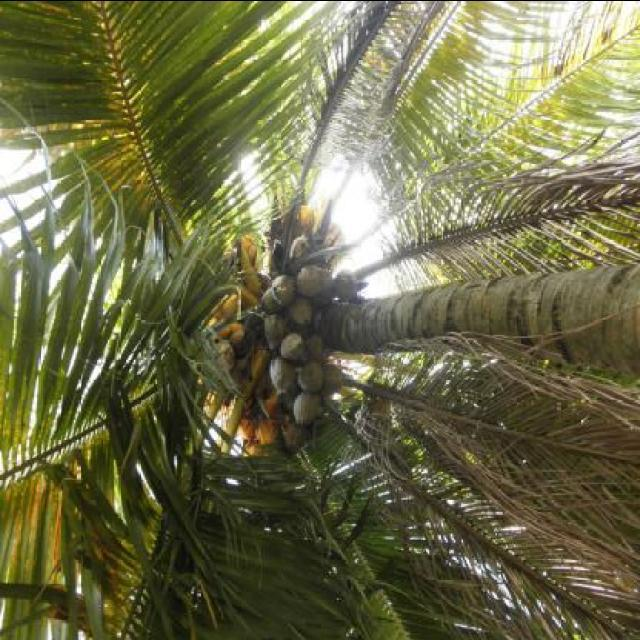Coconut: (200, 234, 352, 452)
